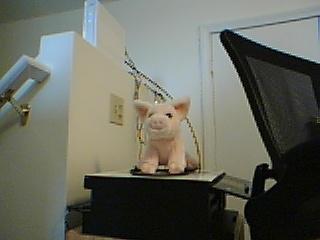piggy: (131, 95, 200, 176)
